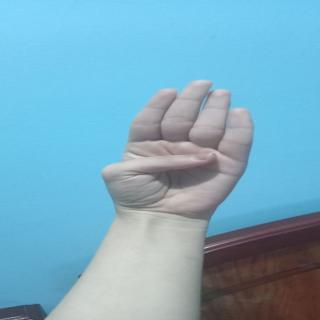KAAF: (108, 73, 260, 218)
